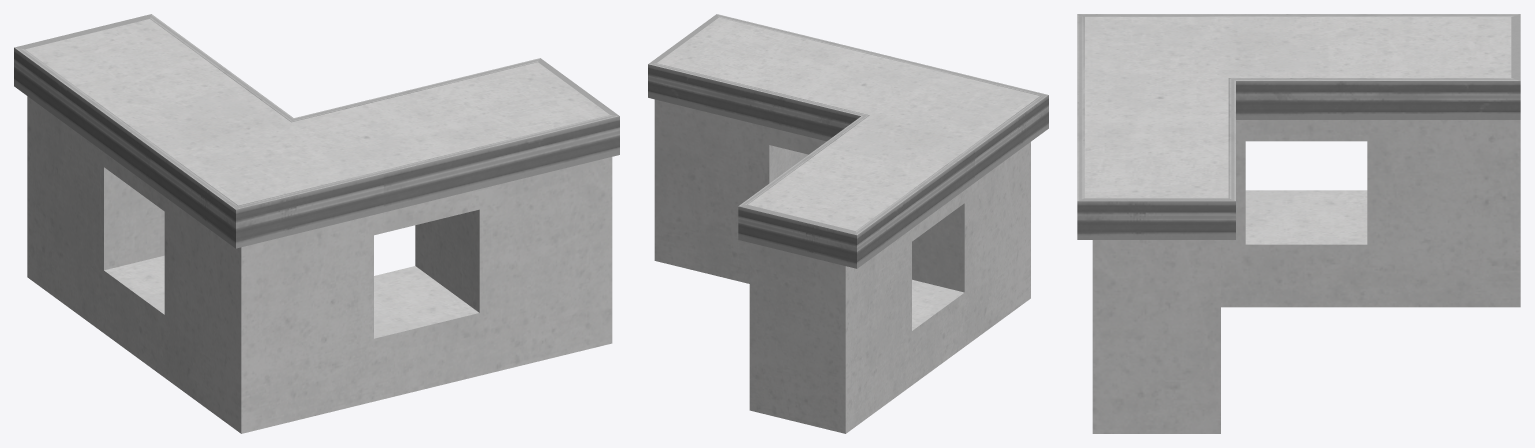
Rendered from MB_Fence_E_Angle.fbx.
3 views of the same model, side by side, from view 1: azimuth 30°, elevation 25°; view 2: azimuth 150°, elevation 25°; view 3: azimuth 270°, elevation 25° (orthographic). The views are drawn at different scales.
Visible parts, largest first — view 1: MB_Fence_E_Angle; view 2: MB_Fence_E_Angle; view 3: MB_Fence_E_Angle.
Boxes of the visible parts, bbox=[...] form: MB_Fence_E_Angle: bbox=[14, 14, 619, 433]; MB_Fence_E_Angle: bbox=[648, 14, 1048, 433]; MB_Fence_E_Angle: bbox=[1077, 14, 1520, 433].
Size of the model in its own units: 104 by 60 by 104.
